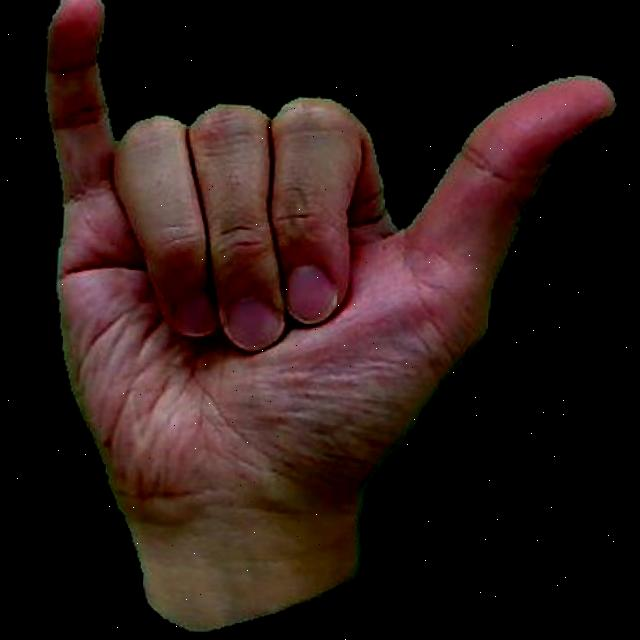y: (6, 0, 629, 640)
